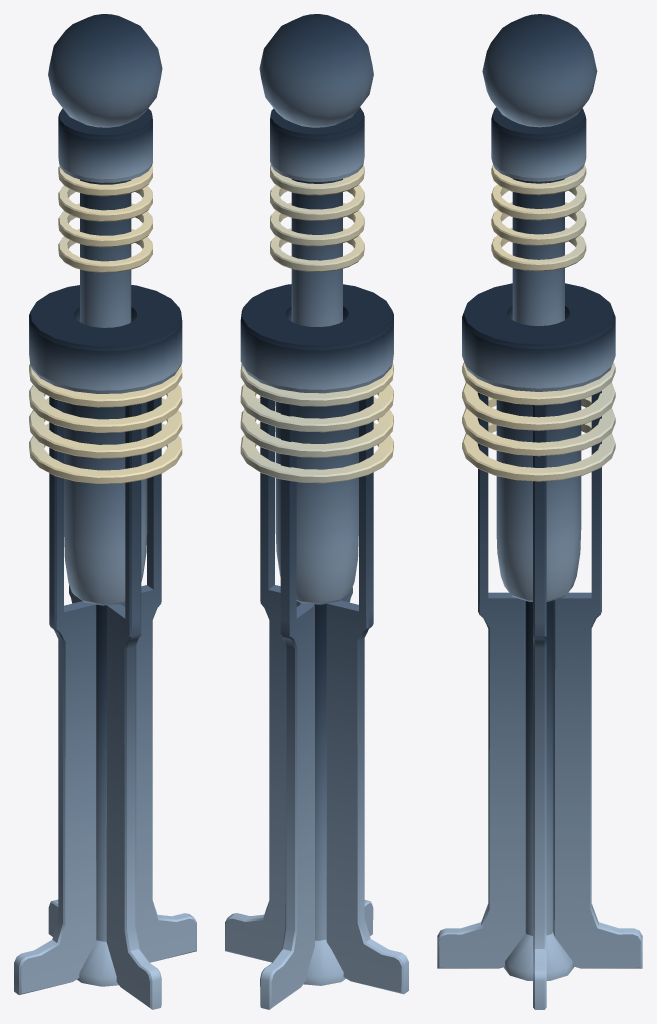
Rendered from ENV_Spire_03.FBX.
The picture shows the model from 3 angles, left to right: view 1: azimuth 30°, elevation 25°; view 2: azimuth 150°, elevation 25°; view 3: azimuth 270°, elevation 25°; orthographic projection.
Visible parts, largest first — view 1: ENV_Spire_03; view 2: ENV_Spire_03; view 3: ENV_Spire_03.
Part boxes in pixels (x1=…): ENV_Spire_03: x1=14, y1=14, x2=196, y2=1009; ENV_Spire_03: x1=225, y1=14, x2=408, y2=1009; ENV_Spire_03: x1=437, y1=14, x2=642, y2=1009.
Size of the model in its own units: 286 by 1457 by 286.
Materials: 2 (2 with a texture image).
